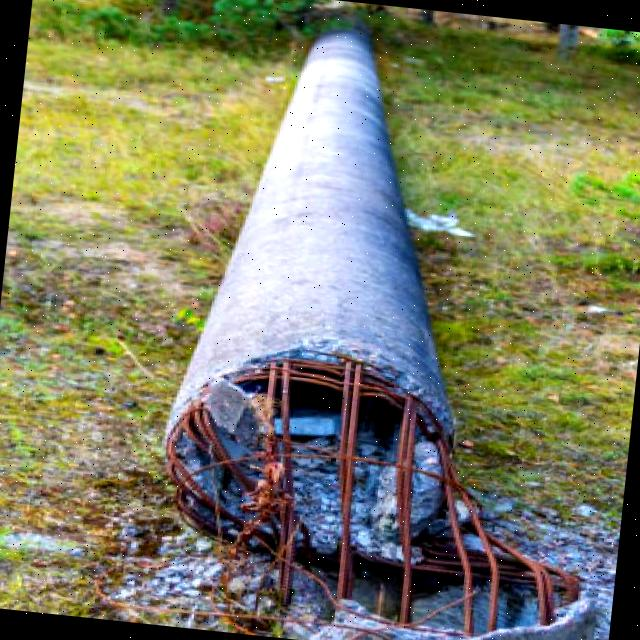Broken Pole: (117, 12, 511, 614)
